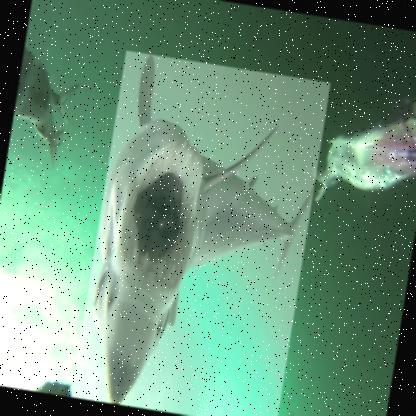mako-shark: (69, 48, 330, 415)
